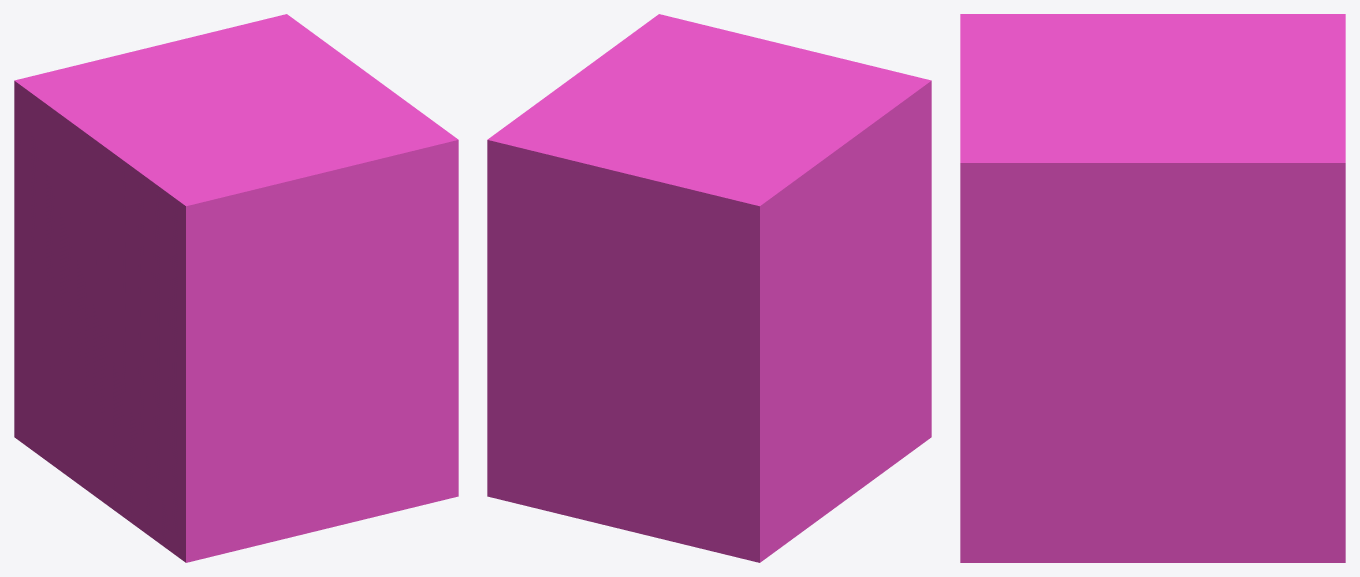
Rendered from repair_station.glb.
The picture shows the model from 3 angles, left to right: view 1: azimuth 30°, elevation 25°; view 2: azimuth 150°, elevation 25°; view 3: azimuth 270°, elevation 25°; orthographic projection. The views are drawn at different scales.
Visible parts, largest first — view 1: COL_BOX_BODY; view 2: COL_BOX_BODY; view 3: COL_BOX_BODY.
Part boxes in pixels (x1=…): COL_BOX_BODY: x1=14, y1=14, x2=458, y2=562; COL_BOX_BODY: x1=487, y1=14, x2=931, y2=562; COL_BOX_BODY: x1=960, y1=14, x2=1345, y2=562.
Size of the model in its own units: 1.2 by 1.5 by 1.31.
